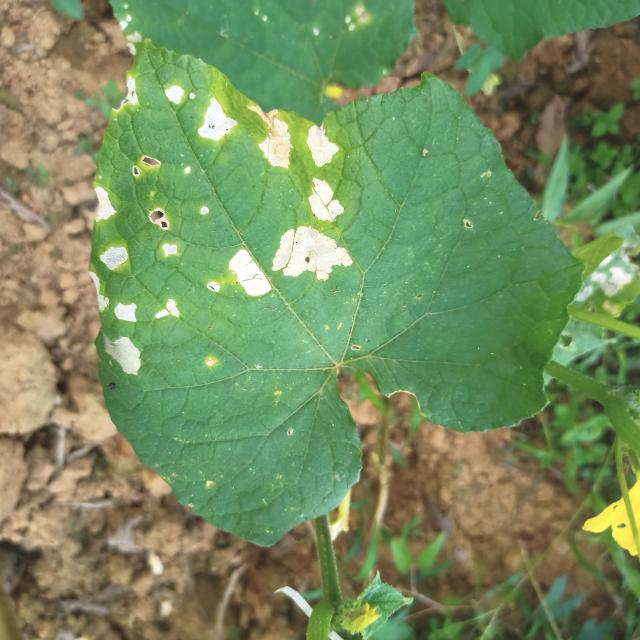disease_cucumber: (230, 224, 350, 293), (162, 78, 237, 141), (260, 116, 338, 167), (105, 301, 144, 376), (147, 205, 180, 260), (308, 177, 344, 220), (93, 183, 115, 224), (88, 272, 110, 310), (99, 248, 132, 272), (155, 298, 181, 322)
